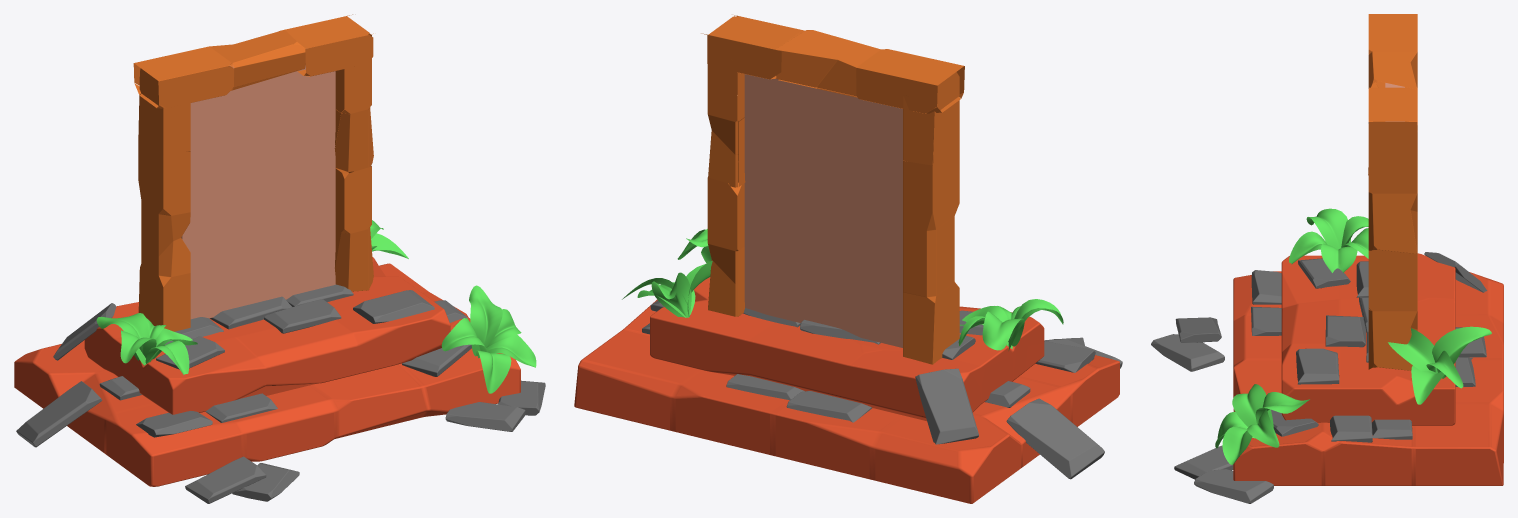
File: gate.fbx
3 renders of one model, left to right at view 1: azimuth 30°, elevation 25°; view 2: azimuth 150°, elevation 25°; view 3: azimuth 270°, elevation 25°, orthographic. The views are drawn at different scales.
Parts seen in each view (by area): view 1: Cube, Plane, Plane.004, Plane.002, Plane.008_Plane.009, Plane.006, Cube.009_Cube.010, Cube.019_Cube.020, Cube.016_Cube.017, Stone_Slab_Cube, Cube.015_Cube.016, Cube.002_Cube.006 (+10 smaller); view 2: Cube, Plane, Plane.004, Plane.002, Cube.009_Cube.010, Cube.014_Cube.015, Plane.006, Plane.007, Cube.013_Cube.014, Cube.002_Cube.006, Cube.012_Cube.013, Cube.008_Cube.009 (+1 smaller); view 3: Plane.004, Plane, Plane.002, Plane.008_Plane.009, Plane.007, Plane.006, Cube.017_Cube.018, Cube.018_Cube.019, Stone_Slab_Cube, Cube.015_Cube.016, Cube.011_Cube.012, Cube.019_Cube.020 (+10 smaller).
Boxes of the visible parts, <box> form: Cube: <box>181,65,335,319</box>; Plane: <box>133,14,373,331</box>; Plane.004: <box>14,263,520,486</box>; Plane.002: <box>84,257,450,414</box>; Plane.008_Plane.009: <box>441,285,536,393</box>; Plane.006: <box>96,313,197,374</box>; Cube.009_Cube.010: <box>16,381,102,447</box>; Cube.019_Cube.020: <box>185,456,266,503</box>; Cube.016_Cube.017: <box>445,402,525,431</box>; Stone_Slab_Cube: <box>353,290,434,323</box>; Cube.015_Cube.016: <box>264,299,341,333</box>; Cube.002_Cube.006: <box>136,411,212,437</box>; Cube: <box>744,74,902,347</box>; Plane: <box>701,15,964,364</box>; Plane.004: <box>574,299,1119,503</box>; Plane.002: <box>650,277,1044,421</box>; Cube.009_Cube.010: <box>1006,398,1104,479</box>; Cube.014_Cube.015: <box>915,368,978,444</box>; Plane.006: <box>958,299,1063,350</box>; Plane.007: <box>622,261,712,317</box>; Cube.013_Cube.014: <box>786,391,872,422</box>; Cube.002_Cube.006: <box>1035,341,1095,372</box>; Cube.012_Cube.013: <box>726,374,804,400</box>; Cube.008_Cube.009: <box>985,381,1030,407</box>; Plane.004: <box>1233,271,1503,485</box>; Plane: <box>1368,14,1417,370</box>; Plane.002: <box>1281,253,1455,425</box>; Plane.008_Plane.009: <box>1215,384,1309,464</box>; Plane.007: <box>1388,326,1491,404</box>; Plane.006: <box>1289,208,1368,272</box>; Cube.017_Cube.018: <box>1194,469,1273,503</box>; Cube.018_Cube.019: <box>1151,334,1224,371</box>; Stone_Slab_Cube: <box>1296,348,1339,384</box>; Cube.015_Cube.016: <box>1325,315,1365,347</box>; Cube.011_Cube.012: <box>1330,415,1372,442</box>; Cube.019_Cube.020: <box>1175,317,1221,342</box>.
Bounding box in the file's own units: 592 × 426 × 406.
